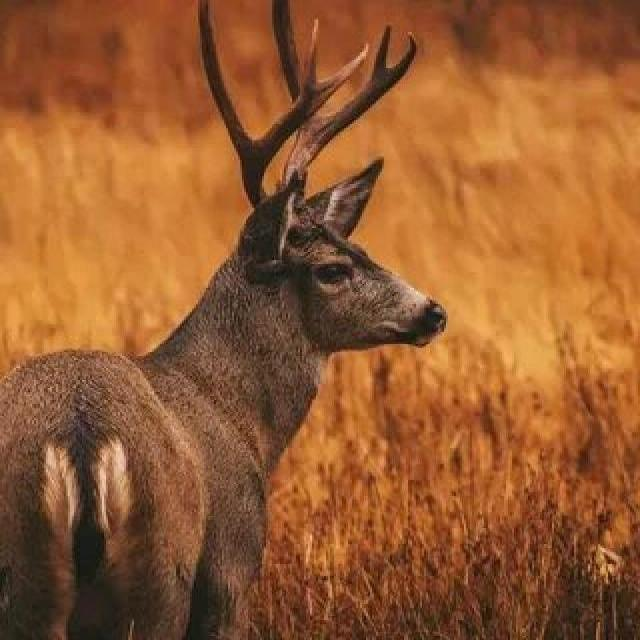deer: (0, 55, 429, 634)
